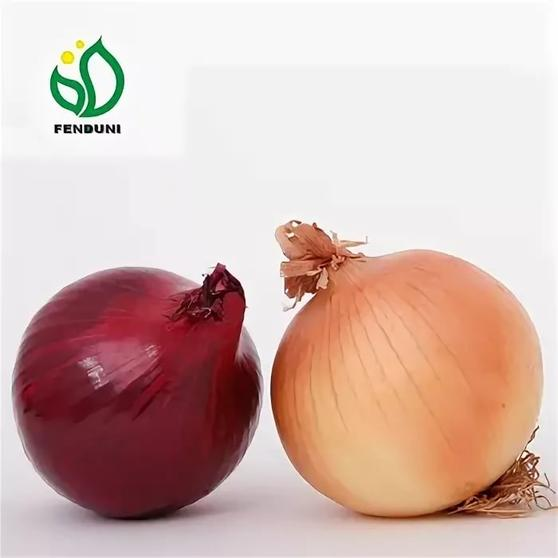onion: (266, 223, 551, 526)
